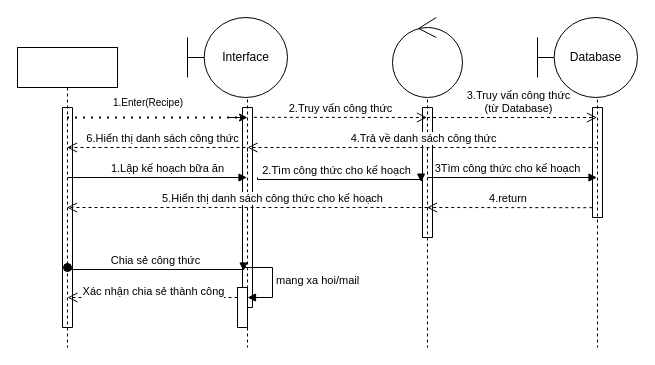
Some shapes in this 655 by 365 pixel diagram are drawn without their labels. The shapes that lost their labels are listed below. From the top down, each one's box as (x1, y1, x2, y2) in pixels, then its label:
(392, 16, 462, 98): Control
(16, 46, 118, 348): User
